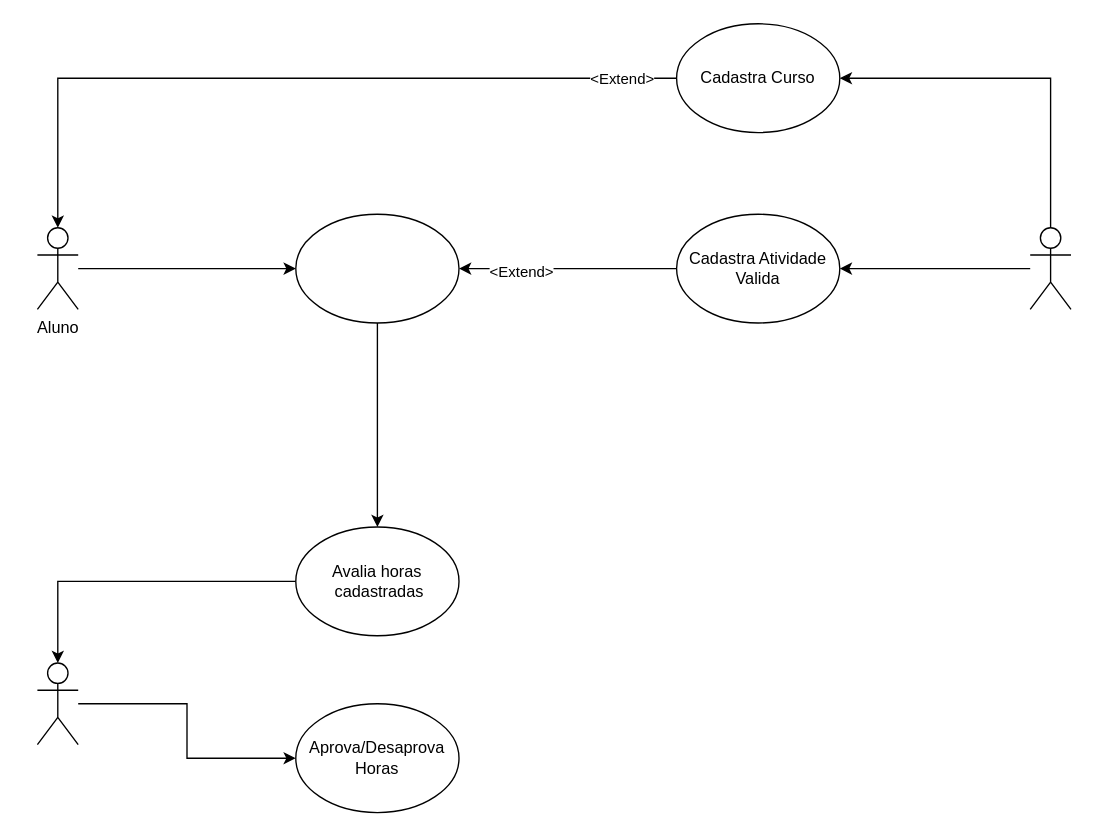
This 1111x836 diagram has some shape labels left out. Each missing label, with the centre of its shape:
"Instituição" goes at point (1050, 267).
"Professor" goes at point (57, 703).
"Solicita avaliação de horas" goes at point (376, 268).
